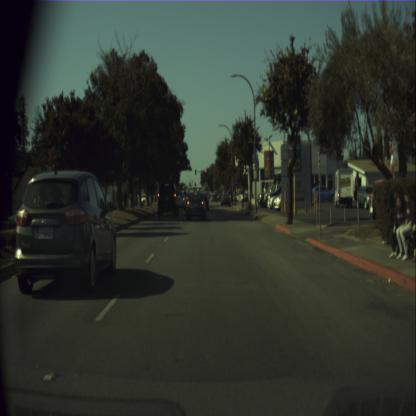Red: (204, 169, 206, 176)
